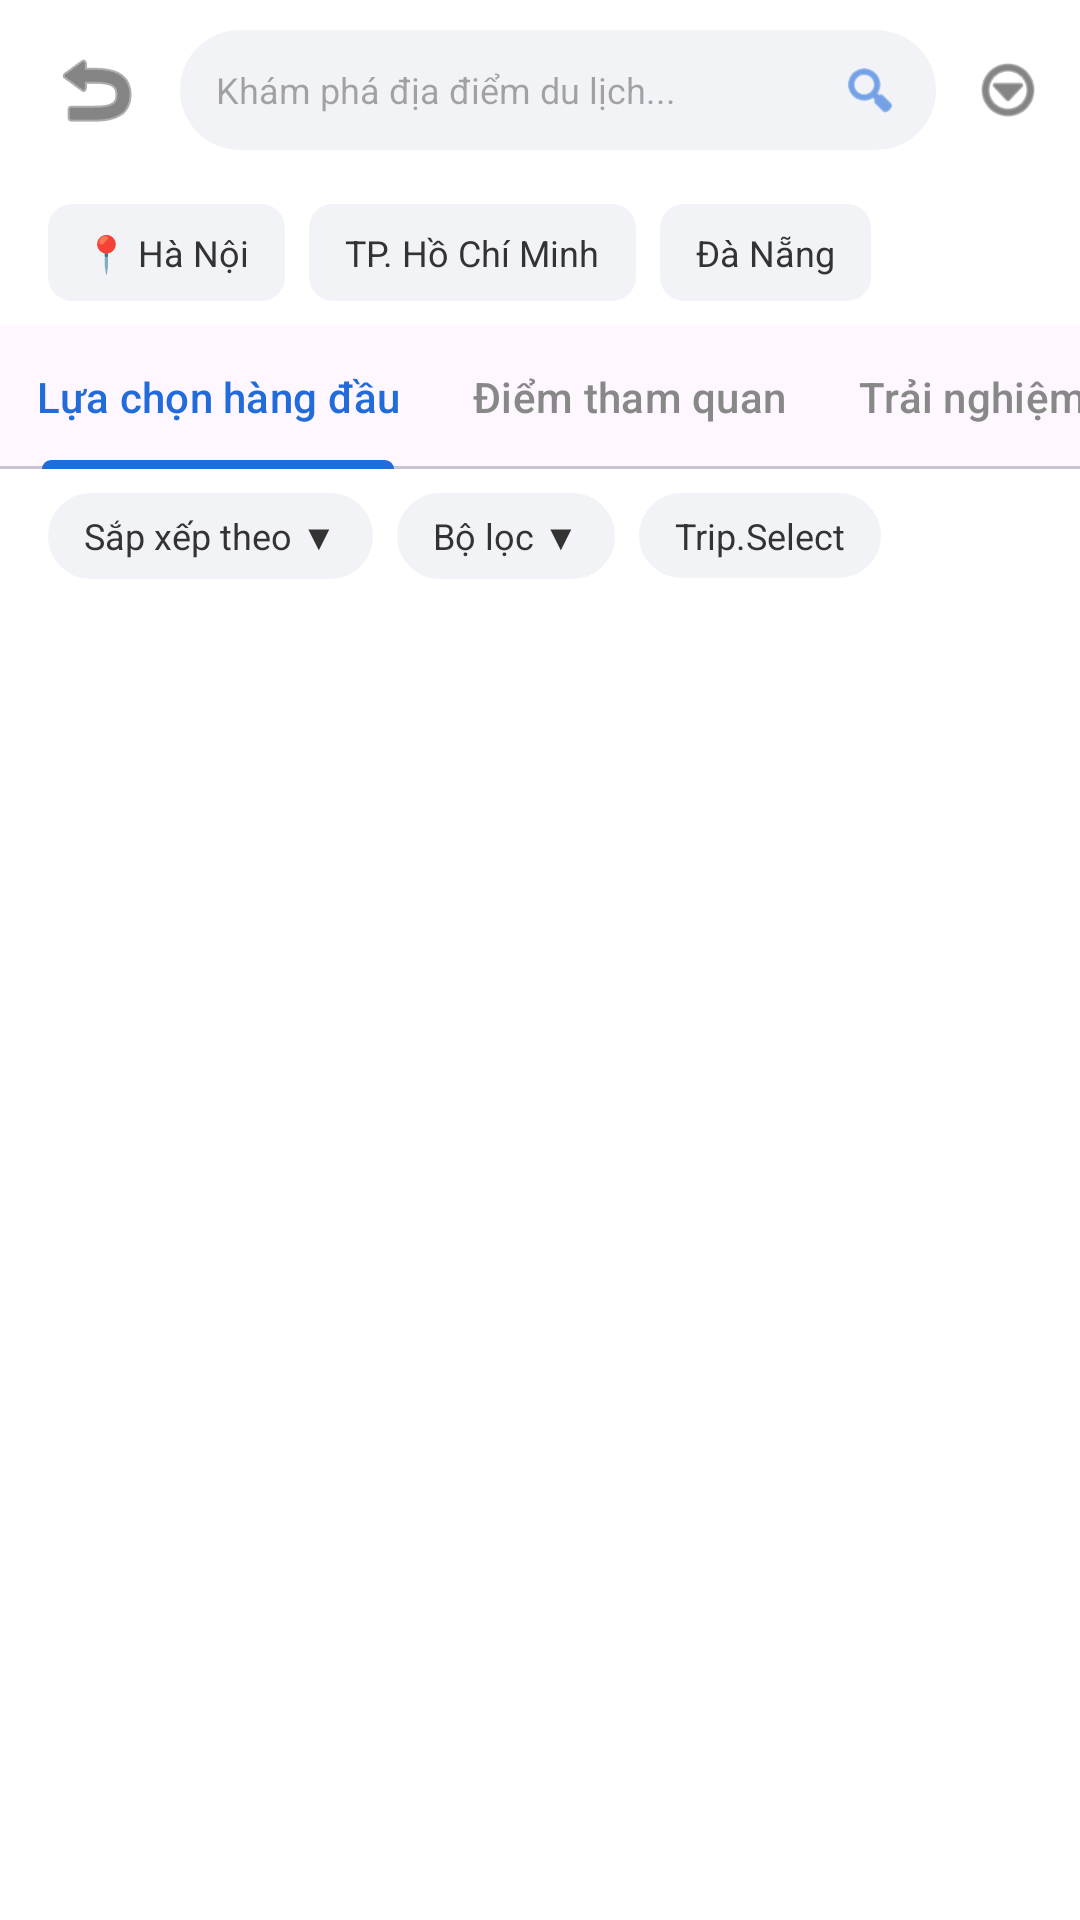

Screen size 1080*1920. Icon name, then its box in pixels as (x1, y1, x2, y2):
more: (981, 63, 1035, 117)
revert: (63, 59, 132, 122)
search: (848, 68, 892, 113)
